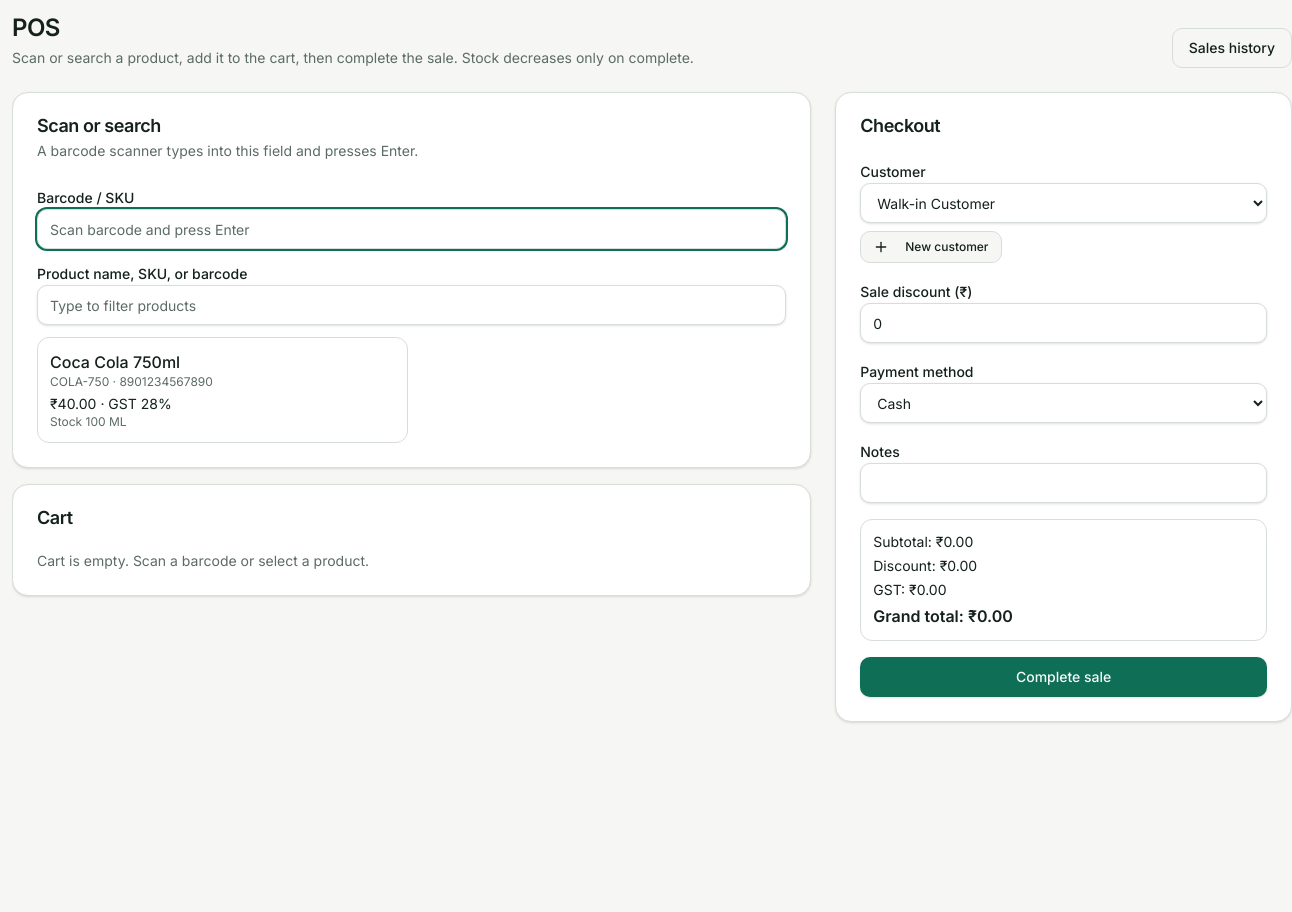
POS cart › shows insufficient stock from checkout and does not navigate away
This screenshot has width=1292, height=912.
Click the button "Coca Cola 750ml" at (115, 362), box [37, 337, 408, 443]
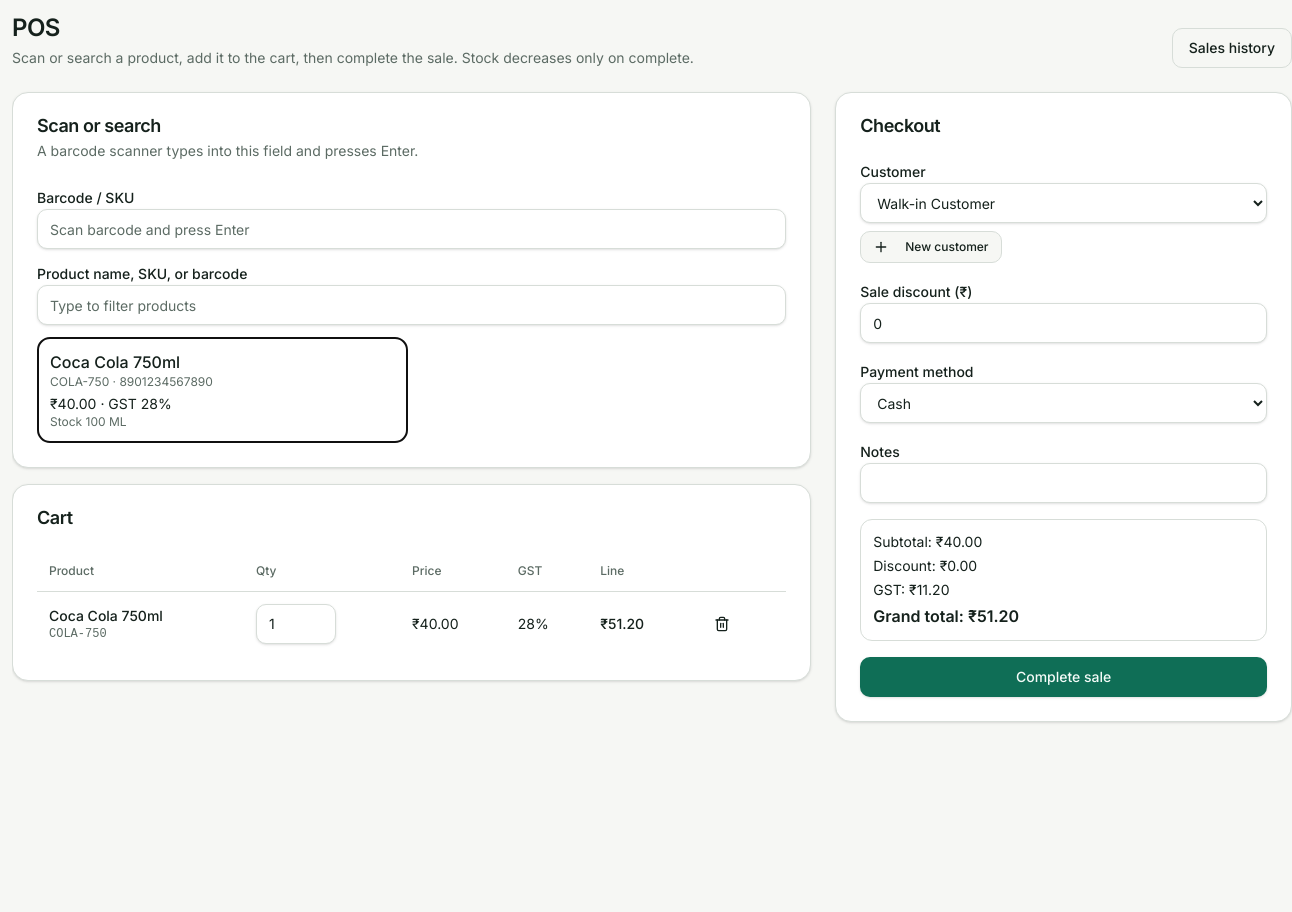
Click the button "Complete sale" at (1064, 677), box [860, 657, 1267, 697]
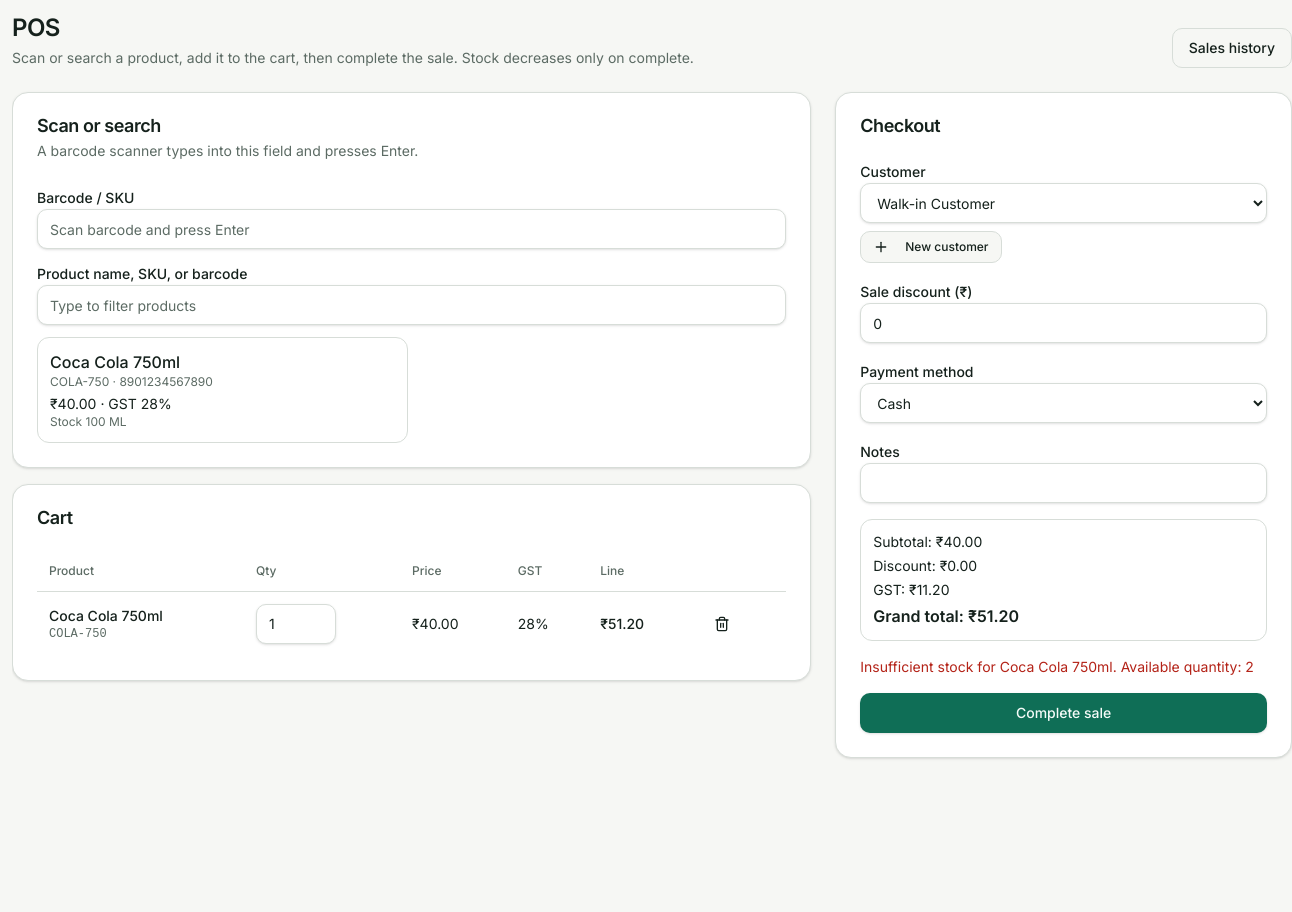
Check: the text "Insufficient stock for Coca Cola 750ml" is shown, box [860, 658, 1254, 675]
